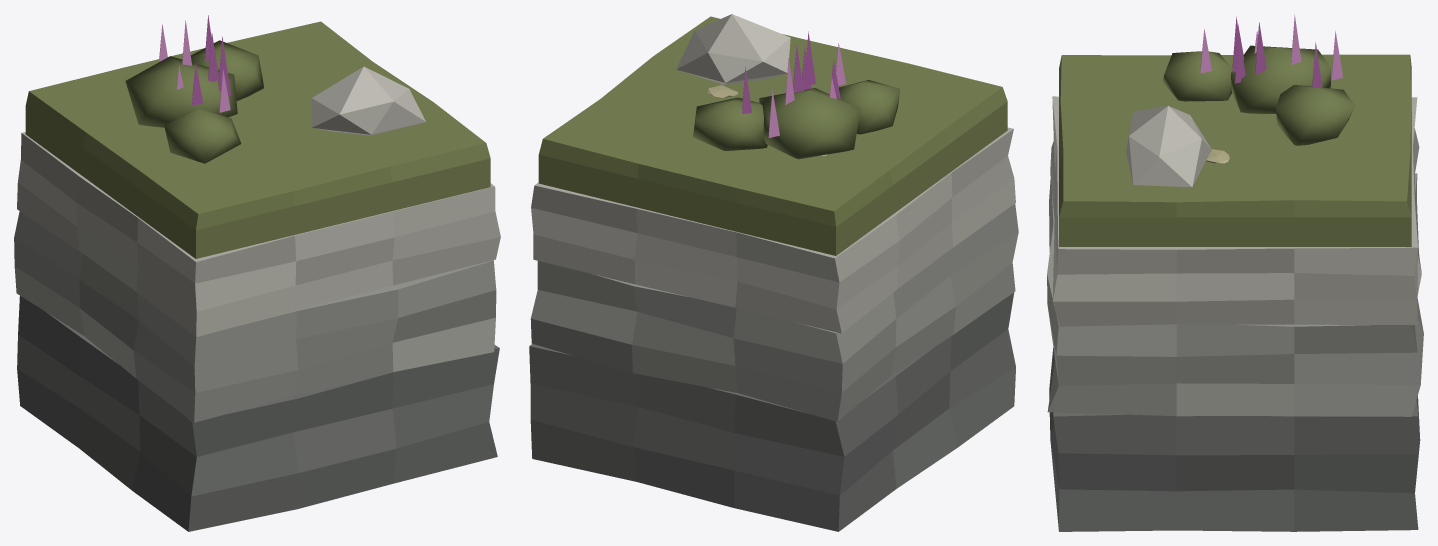
Rendered from cliff_heath_b.glb.
3 renders of one model, left to right at view 1: azimuth 30°, elevation 25°; view 2: azimuth 150°, elevation 25°; view 3: azimuth 270°, elevation 25°, orthographic. The views are drawn at different scales.
Visible parts, largest first — view 1: cliff_heath_b; view 2: cliff_heath_b; view 3: cliff_heath_b.
Boxes of the visible parts, x1=… form: cliff_heath_b: x1=14, y1=15, x2=500, y2=531; cliff_heath_b: x1=529, y1=14, x2=1018, y2=531; cliff_heath_b: x1=1047, y1=14, x2=1423, y2=531.
Size of the model in its own units: 1.06 by 1.31 by 1.07.
